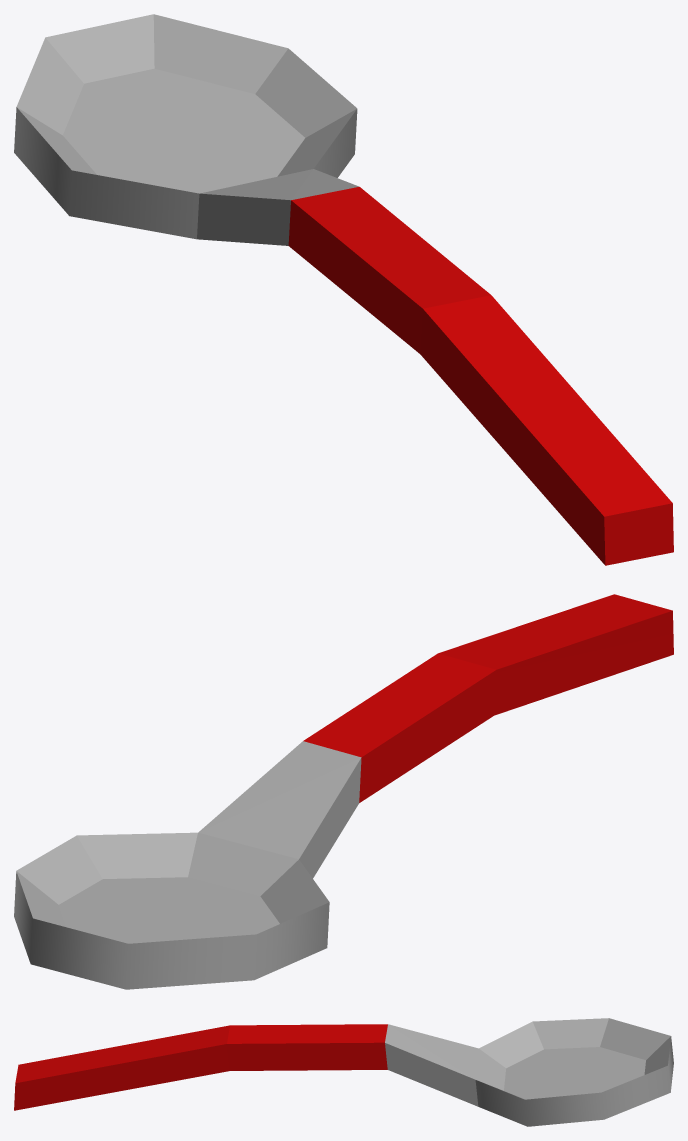
Rendered from Spoon_Red.fbx.
The picture shows the model from 3 angles, top to bottom: view 1: azimuth 30°, elevation 25°; view 2: azimuth 150°, elevation 25°; view 3: azimuth 270°, elevation 25°; orthographic projection. The views are drawn at different scales.
Parts seen in each view (by area): view 1: Spoon_Red; view 2: Spoon_Red; view 3: Spoon_Red.
Boxes of the visible parts, x1,y1,x2,y2 form: Spoon_Red: (14,14,673,565); Spoon_Red: (14,594,673,989); Spoon_Red: (14,1018,673,1126).
Size of the model in its own units: 4.45 by 1.91 by 16.02.
